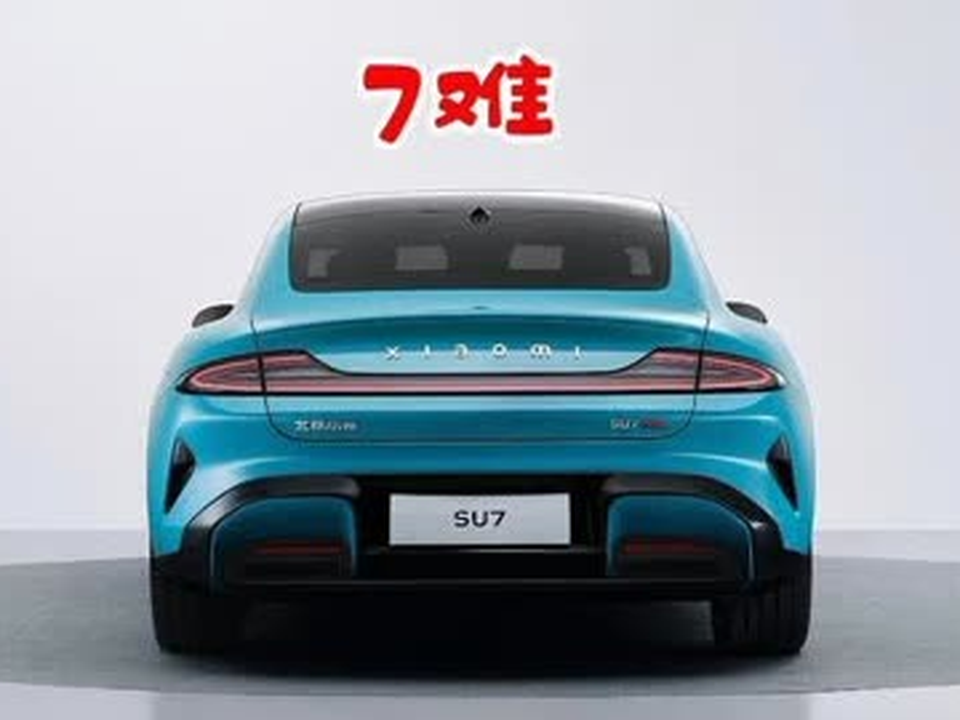su7: (140, 175, 815, 674)
